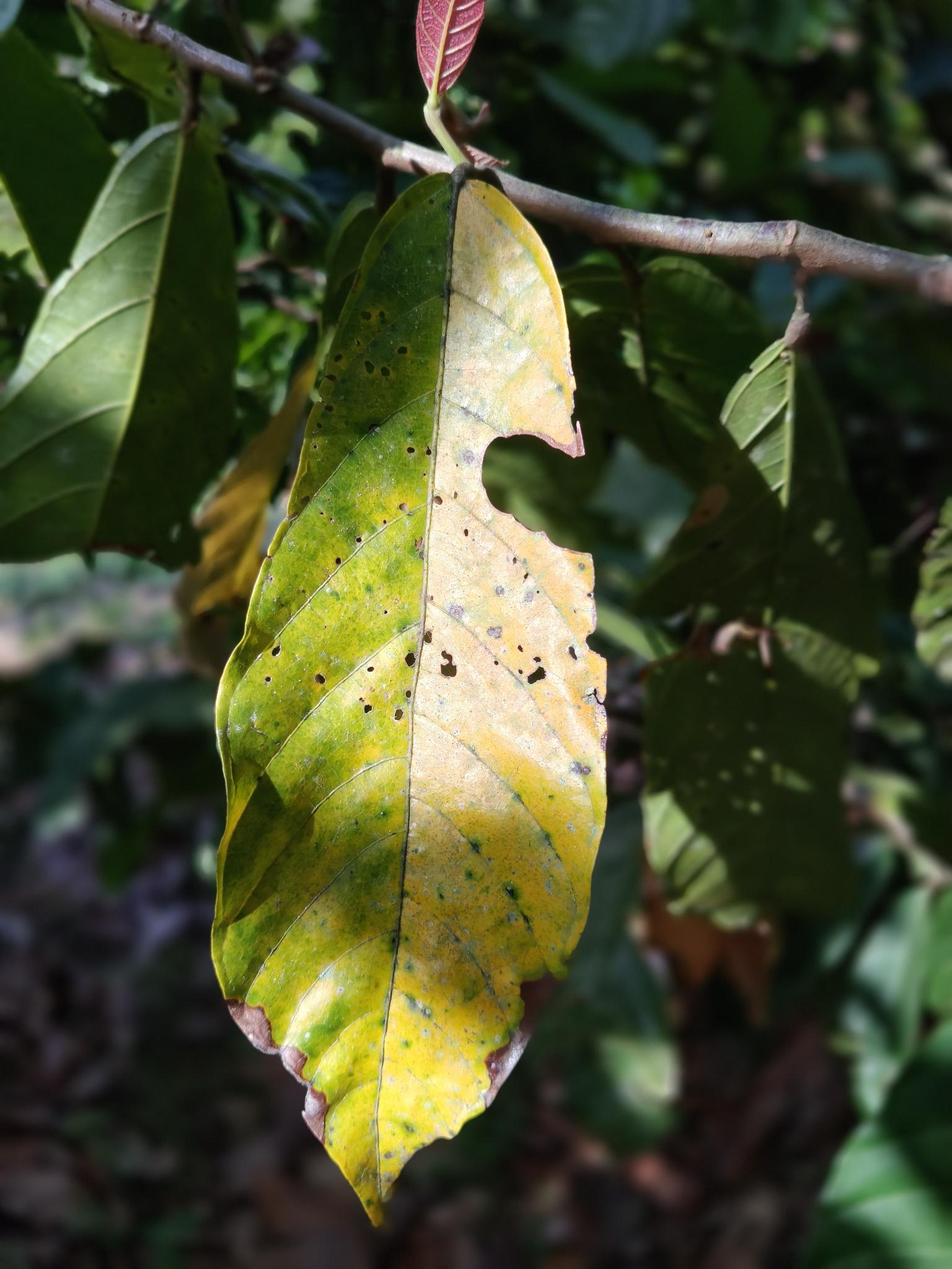Fosforo: (200, 147, 628, 1238)
